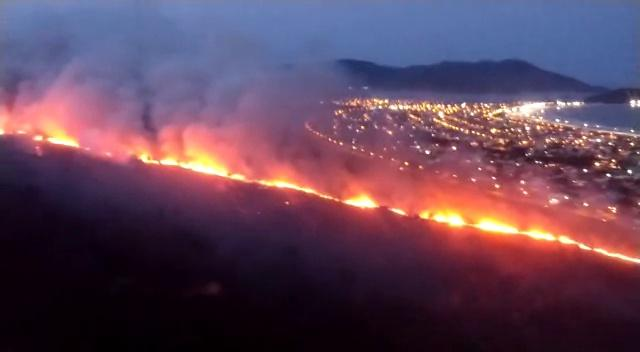fire: (177, 154, 229, 176), (33, 129, 83, 148), (424, 209, 467, 228), (527, 230, 572, 246), (478, 220, 524, 235), (344, 194, 374, 209), (270, 178, 299, 190)
